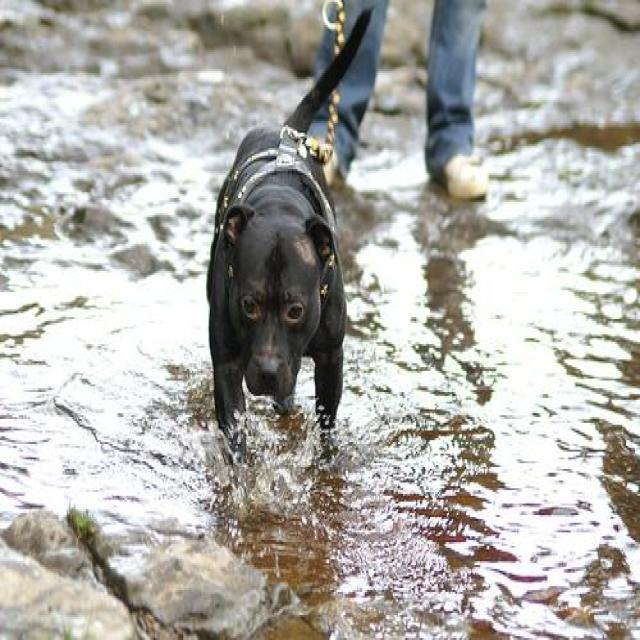staffordshire_bullterrier: (206, 121, 348, 456)
